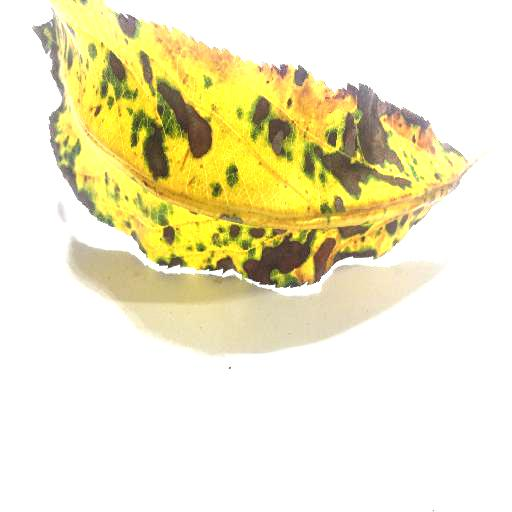Brown_Spot: (246, 72, 444, 191), (214, 217, 416, 281), (133, 55, 212, 182), (155, 222, 188, 270), (104, 52, 124, 82), (115, 12, 137, 32)
